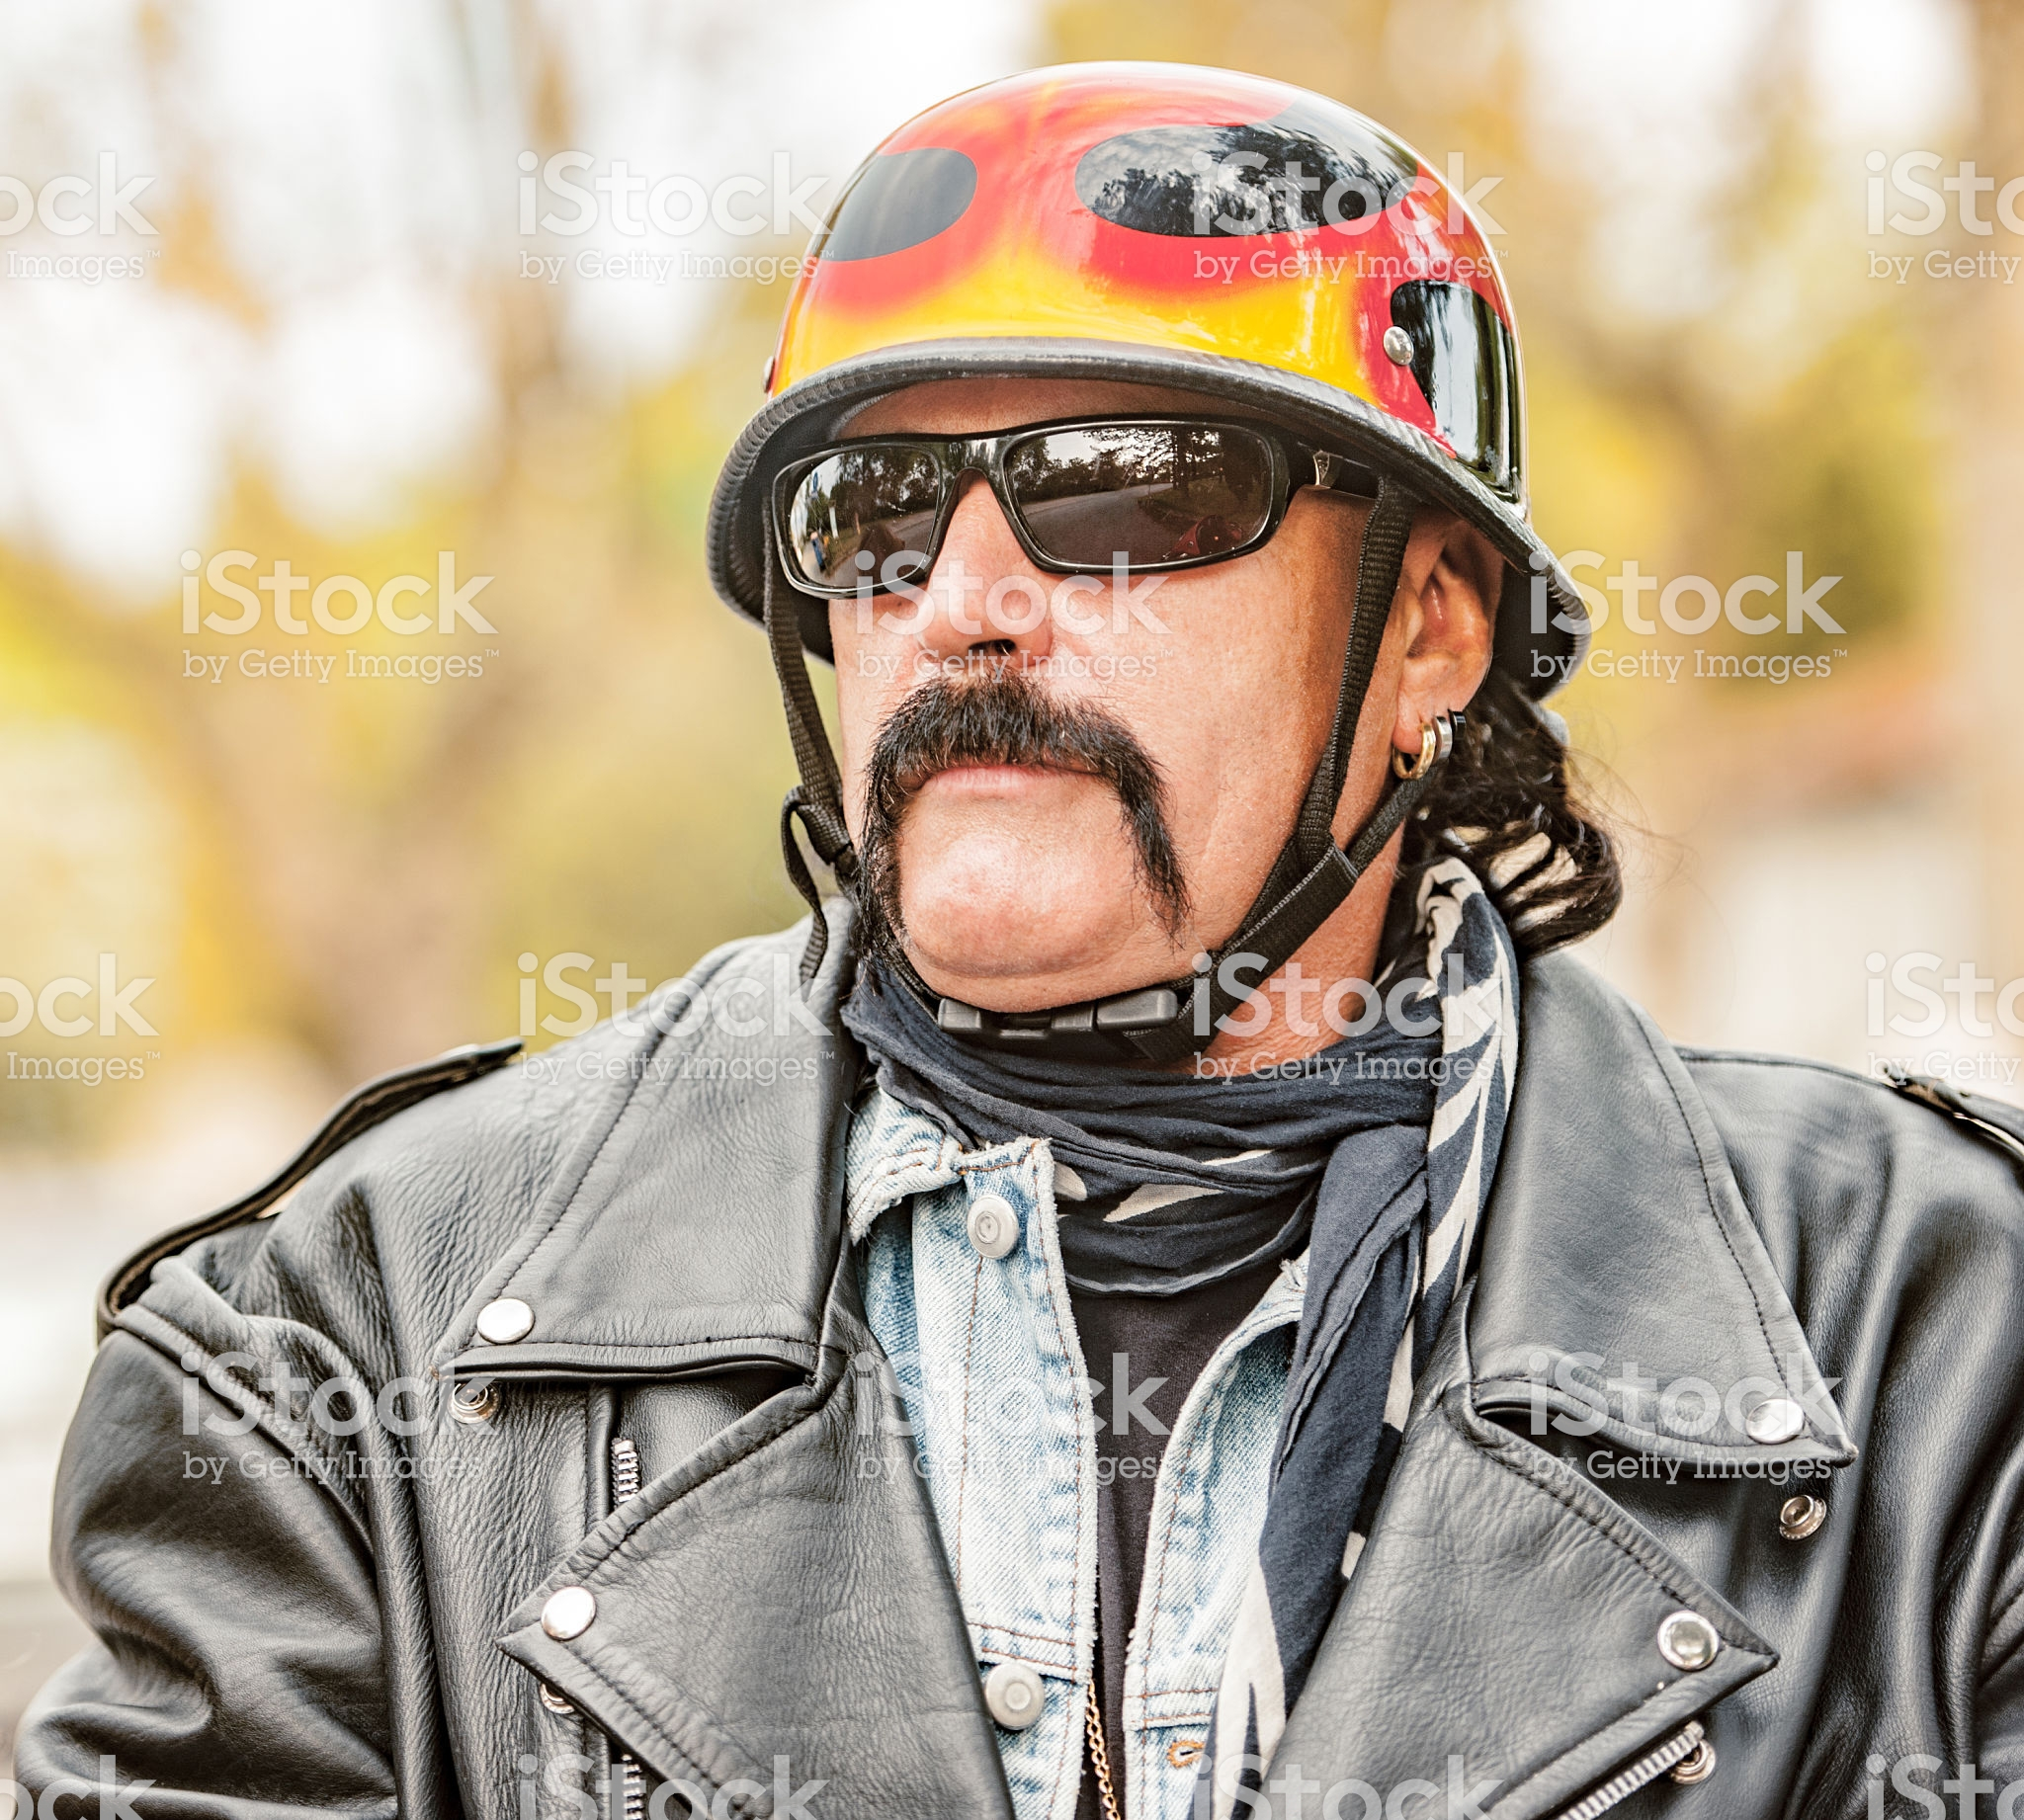helmet: (780, 42, 1592, 666)
